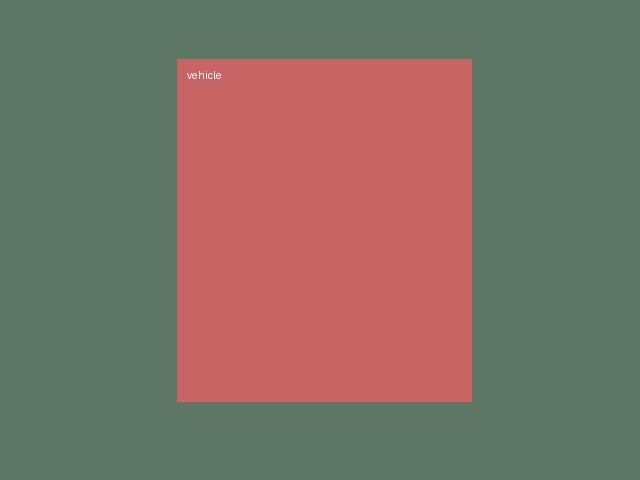vehicle: (177, 59, 471, 401)
